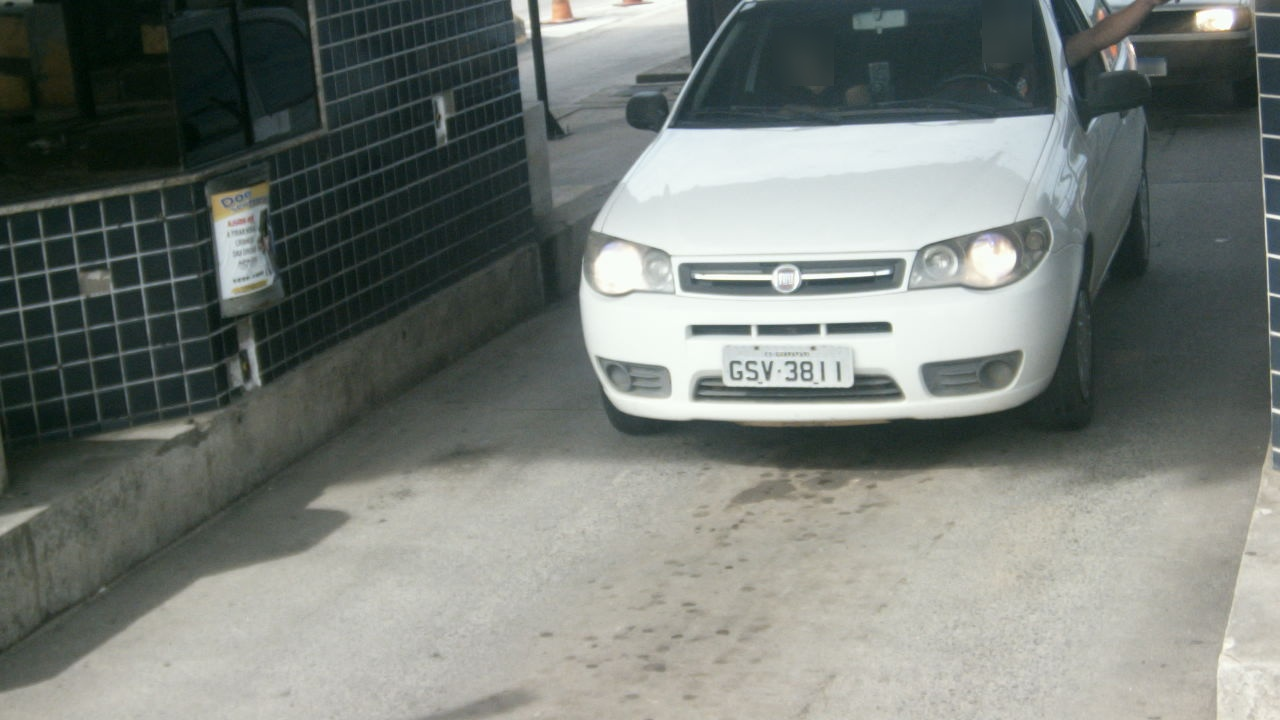placa: (721, 343, 856, 388)
